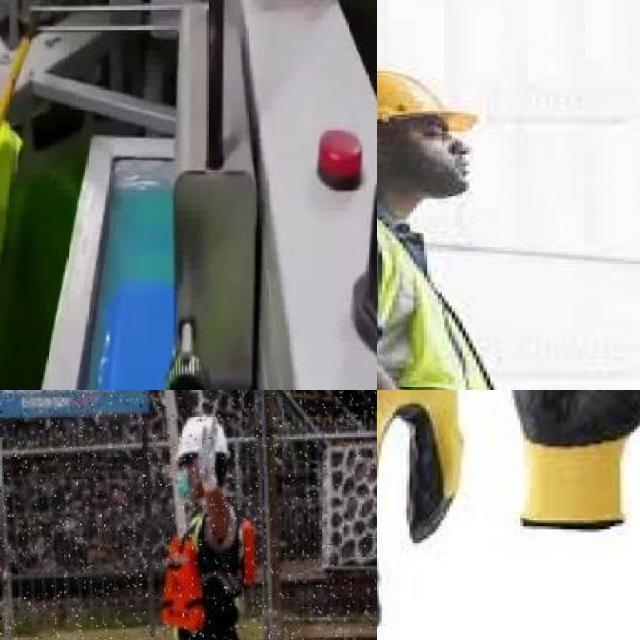apron: (469, 390, 640, 548), (377, 390, 470, 634), (196, 414, 223, 494)
